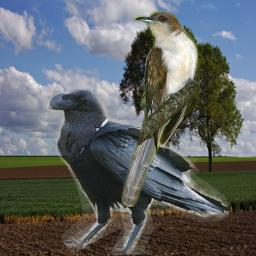Crow: (45, 89, 229, 255)
Cuckoo: (121, 11, 200, 207)
